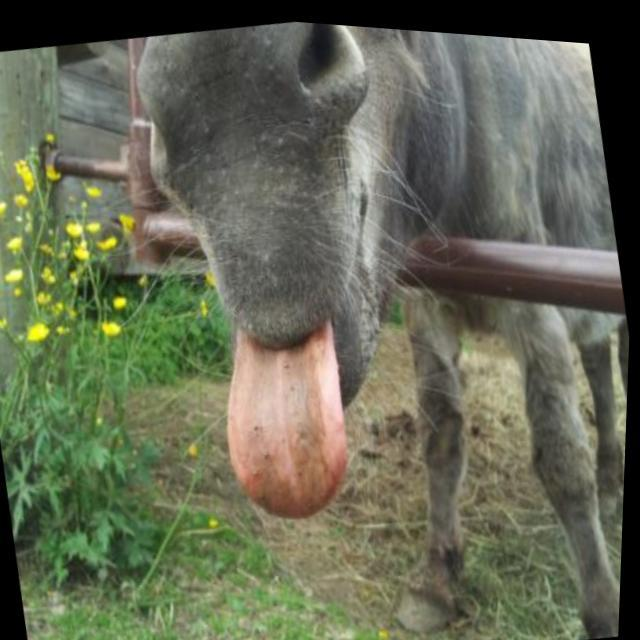Donkey: (115, 8, 640, 640)
